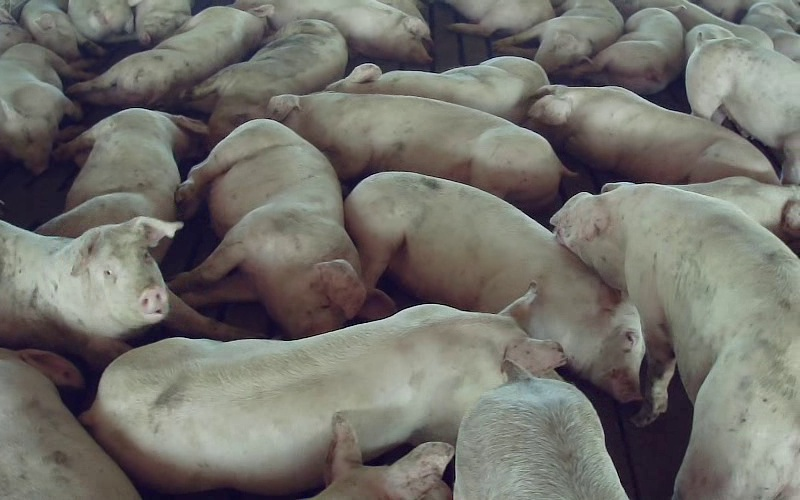pig: (82, 286, 564, 494), (552, 184, 799, 499), (345, 173, 643, 401), (170, 119, 392, 337), (0, 217, 246, 367), (268, 92, 565, 209), (528, 86, 778, 183), (37, 108, 206, 236), (68, 4, 273, 107), (190, 19, 347, 142), (686, 37, 799, 183), (326, 56, 548, 122), (234, 0, 431, 63), (0, 43, 93, 174), (567, 8, 684, 94)
